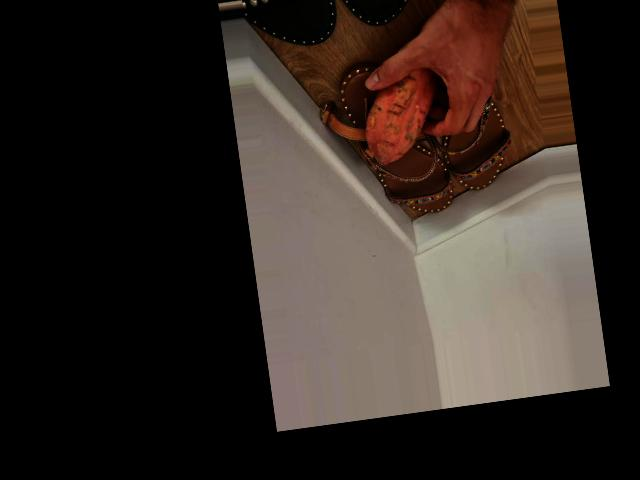sweet_potato: (358, 62, 445, 167)
